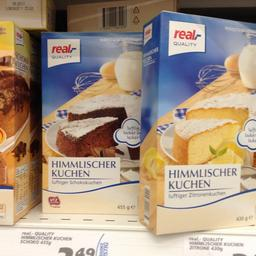cake: (140, 10, 254, 236), (38, 29, 140, 216)
